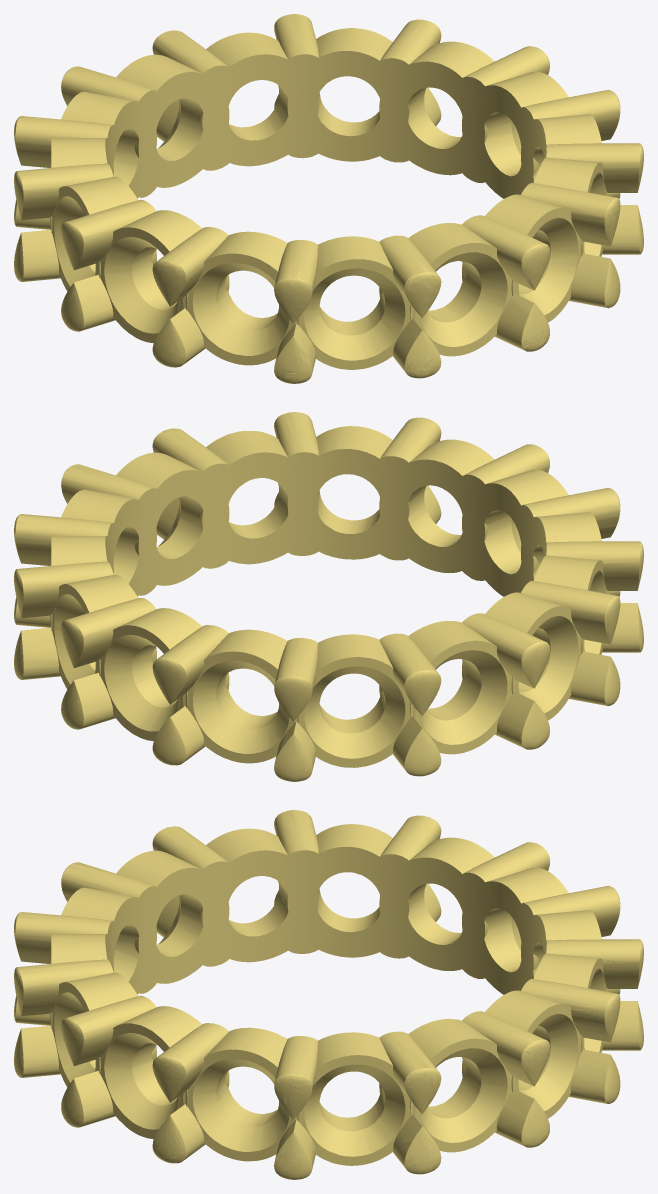
The picture shows the model from 3 angles, top to bottom: view 1: azimuth 30°, elevation 25°; view 2: azimuth 150°, elevation 25°; view 3: azimuth 270°, elevation 25°; orthographic projection.
Visible parts, largest first — view 1: lr-0040; view 2: lr-0040; view 3: lr-0040.
Boxes of the visible parts, x1,y1,x2,y2 form: lr-0040: (14,14,643,383); lr-0040: (14,412,643,781); lr-0040: (14,810,643,1179).
Bounding box in the file's own units: 1 × 0.193 × 0.9954.
